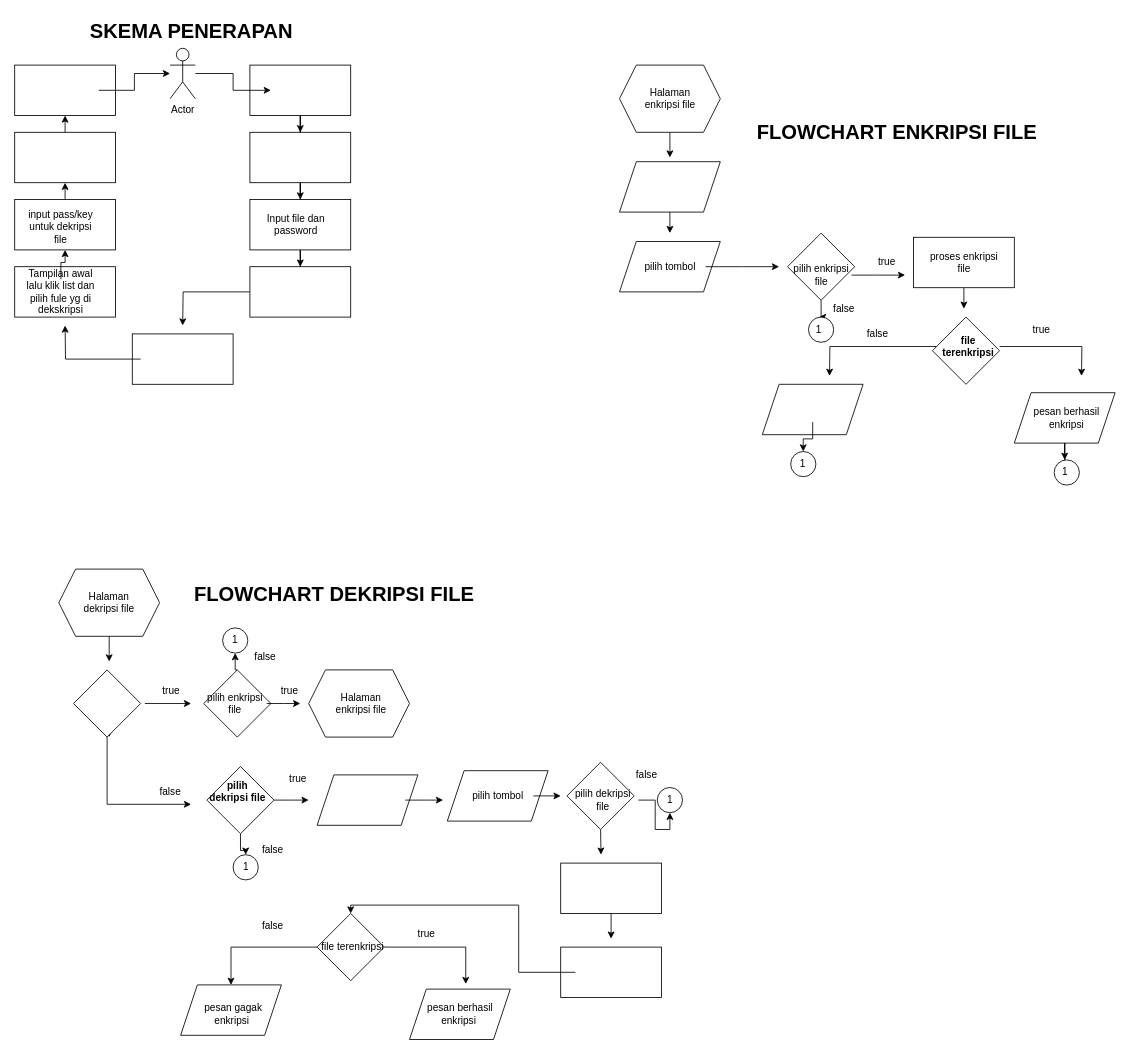
The diagram is 1130 pixels wide and 1054 high, and some of its shapes have lost their labels. The centre of each missing label's shape, as x and y in pixels:
"check database tabel" goes at (x=611, y=972).
"File Bentuk awal" goes at (x=65, y=90).
"input file" goes at (x=669, y=186).
"input password file" goes at (x=367, y=799).
"klik dekripsi dan proses dekripsi file" goes at (x=65, y=157).
"klik tombol enkripsi file untuk mengunci" goes at (x=300, y=291).
"Masuk ke tampilan enkripsi file" goes at (x=300, y=157).
"melakukan proses enkripsi file dan save" goes at (x=182, y=358).
"pesan gagal enkripsi" goes at (x=812, y=409).
"pilih file" goes at (x=107, y=703).
"proses dekripsi file" goes at (x=611, y=888).
"Tampil menu awal file" goes at (x=300, y=90).
